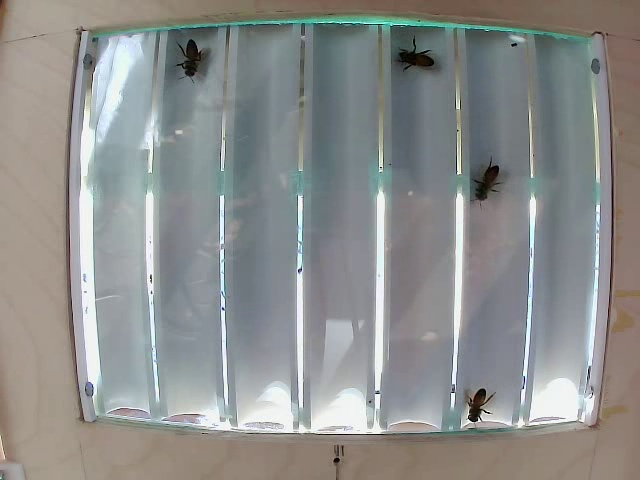bee: (476, 150, 512, 217), (170, 38, 215, 87), (405, 43, 440, 85)
